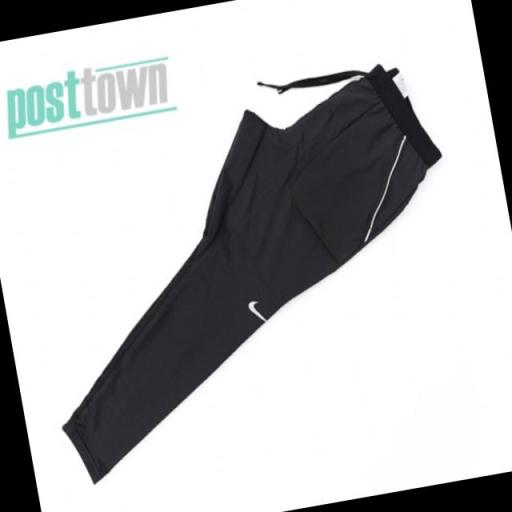Nike: (243, 293, 272, 328)
